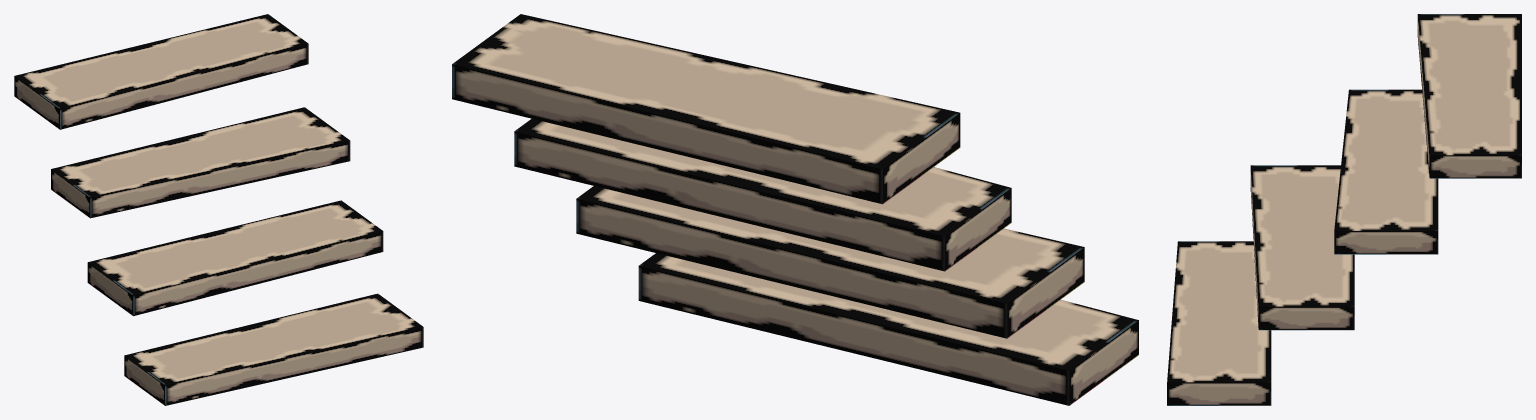
The model's file is deco_stairsOverlayStone.FBX.
3 renders of one model, left to right at view 1: azimuth 30°, elevation 25°; view 2: azimuth 150°, elevation 25°; view 3: azimuth 270°, elevation 25°, orthographic. The views are drawn at different scales.
Visible parts, largest first — view 1: deco_stairsOverlayStone; view 2: deco_stairsOverlayStone; view 3: deco_stairsOverlayStone.
Part boxes in pixels (x1,y1,x2,y2): deco_stairsOverlayStone: [14, 14, 423, 405]; deco_stairsOverlayStone: [452, 14, 1138, 405]; deco_stairsOverlayStone: [1167, 14, 1521, 405].
Bounding box in the file's own units: 2 × 1.66 × 2.12.
1 material, 1 textured.
